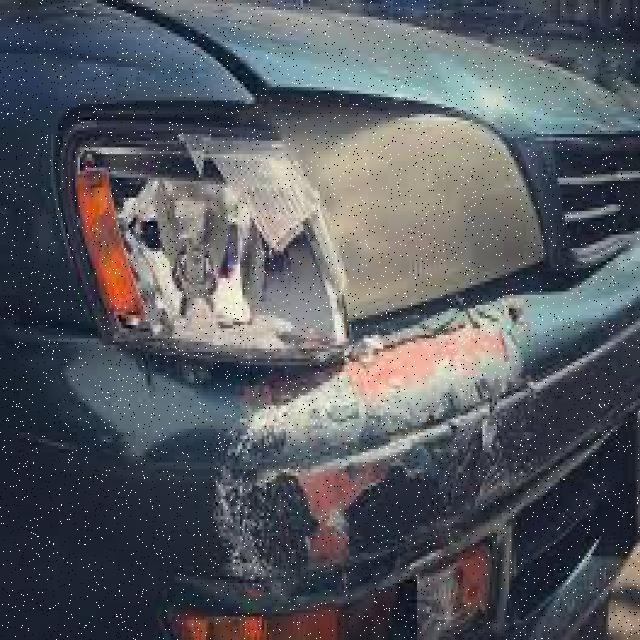Headlight-Damage: (27, 71, 350, 369)
front-bumper-dent: (12, 288, 632, 636)
